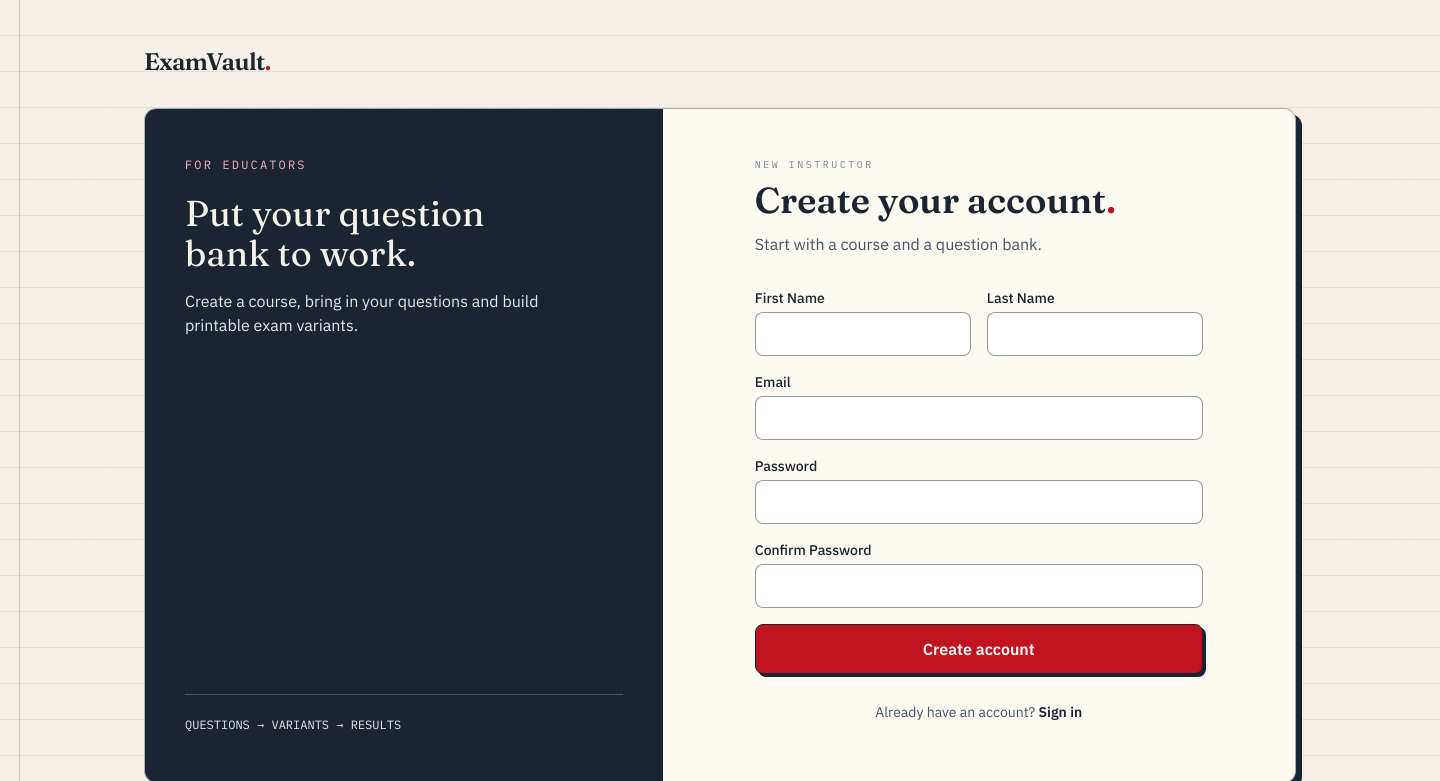
Test: Signup page › shows password validation criteria
The image size is (1440, 781).
Expected: the field labelled "First Name" is shown, [755,312,971,356]
# Type a weak password
Type "weak" into the password field labelled "Password". click: (979, 502)
box: [755,480,1203,524]
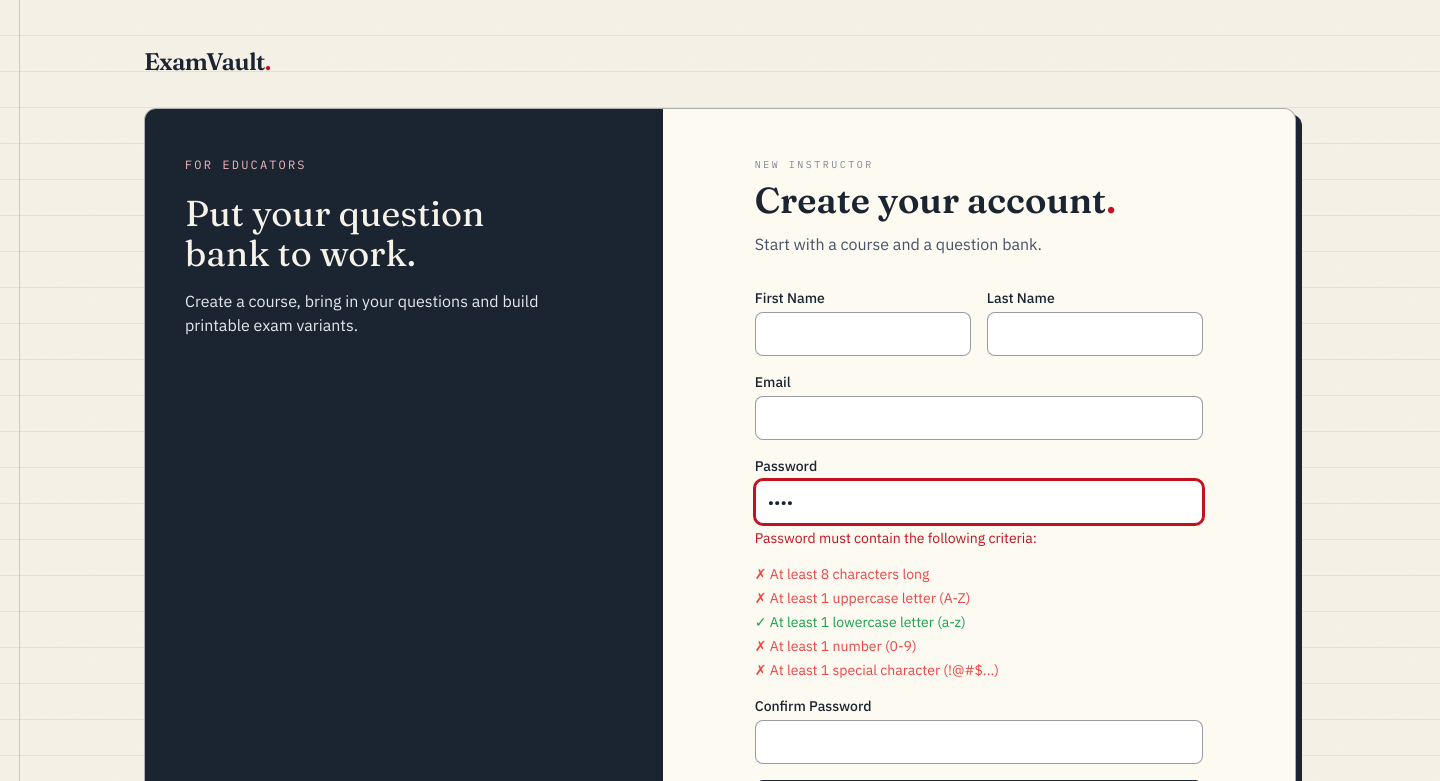
Expected: the list item "✗ At least 8 characters long" is shown, [755,565,930,583]
Expected: the list item "✗ At least 1 uppercase letter (A-Z)" is shown, [755,589,970,607]
Expected: the list item "✓ At least 1 lowercase letter (a-z)" is shown, [755,613,966,631]
